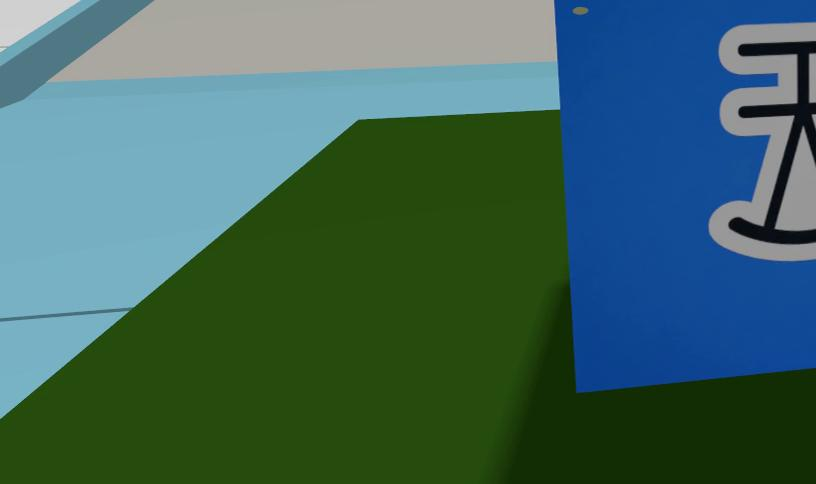KFS_REAL: (555, 0, 816, 389), (711, 24, 816, 261)
